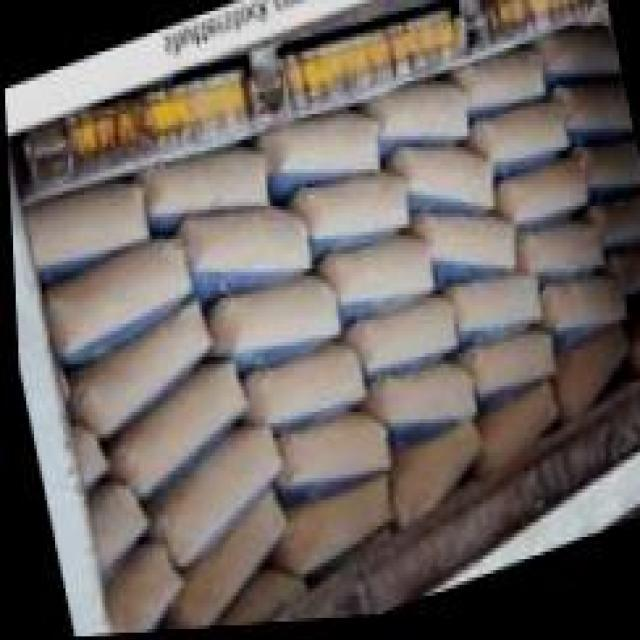gunny_bag: (156, 428, 282, 564), (82, 305, 212, 434), (170, 488, 282, 631), (52, 240, 187, 356), (128, 370, 239, 495), (283, 472, 390, 581), (27, 181, 143, 265), (389, 429, 476, 532), (354, 297, 455, 385), (155, 144, 269, 218), (189, 206, 311, 272), (102, 539, 184, 635), (252, 348, 350, 425), (471, 392, 556, 479), (225, 285, 331, 354), (303, 179, 405, 249), (281, 418, 385, 486), (329, 238, 428, 308), (277, 113, 379, 174), (80, 486, 148, 577), (471, 340, 554, 411), (479, 106, 571, 169), (553, 332, 624, 409), (385, 372, 473, 432), (454, 281, 537, 343), (402, 153, 490, 211), (380, 87, 464, 146), (508, 165, 589, 224), (432, 214, 511, 272), (568, 86, 633, 143), (522, 233, 602, 277), (541, 38, 617, 83), (467, 65, 539, 109), (552, 284, 621, 327), (596, 199, 640, 256), (589, 150, 637, 198)
